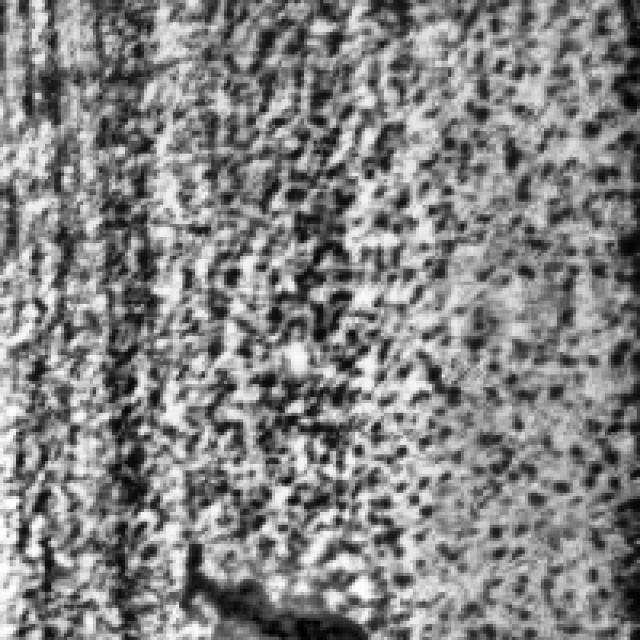Rolled_in_Scale: (172, 0, 458, 637), (428, 0, 630, 630)
